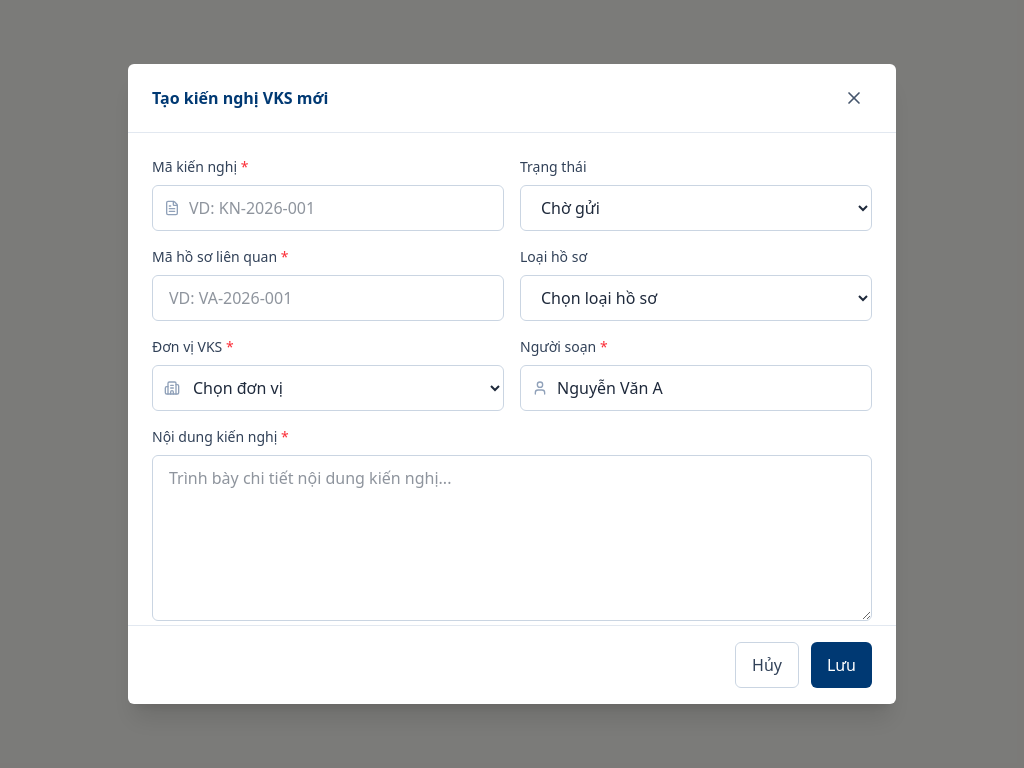
Scenario: Lưu kiến nghị VKS thất bại › hiện đúng lý do máy chủ từ chối
Type "nội dung kiểm thử" into the field with placeholder "VD: KN-2026-001" at (328, 208), box [152,185,504,231]
Type "nội dung kiểm thử" into the field with placeholder "VD: VA-2026-001" at (328, 298), box [152,275,504,321]
Replace the text in the field below "Người soạn" with "nội dung kiểm thử" at (696, 388), box [520,365,872,411]
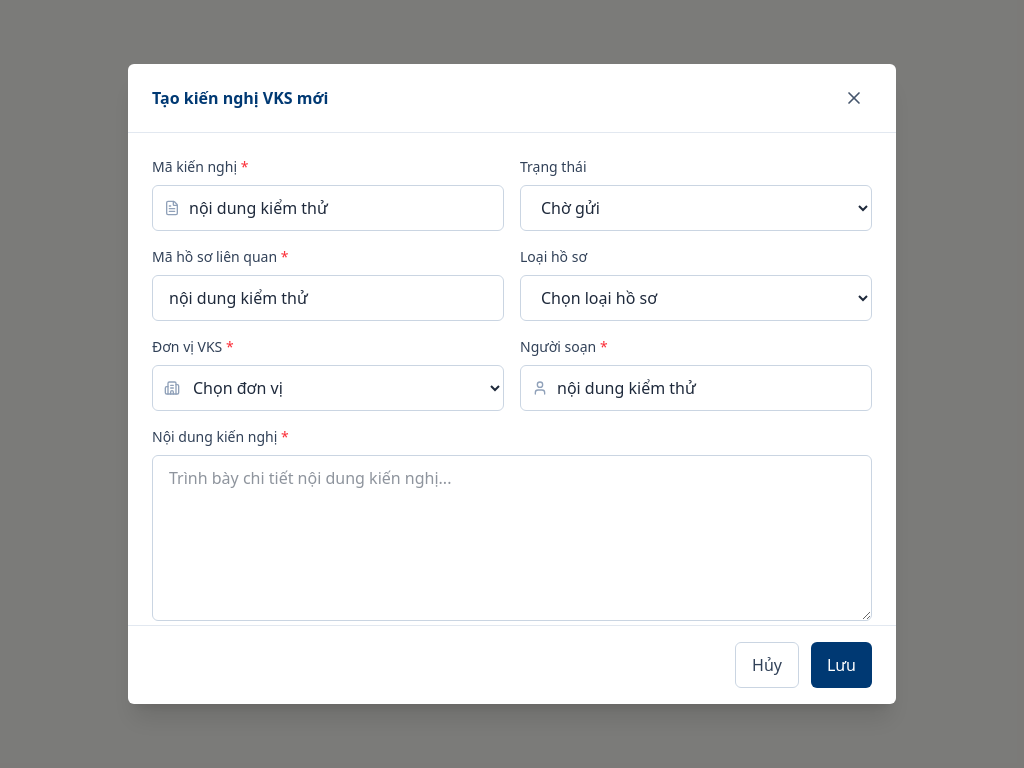
Type "nội dung kiểm thử" into the text box at (512, 538), box [152,455,872,621]
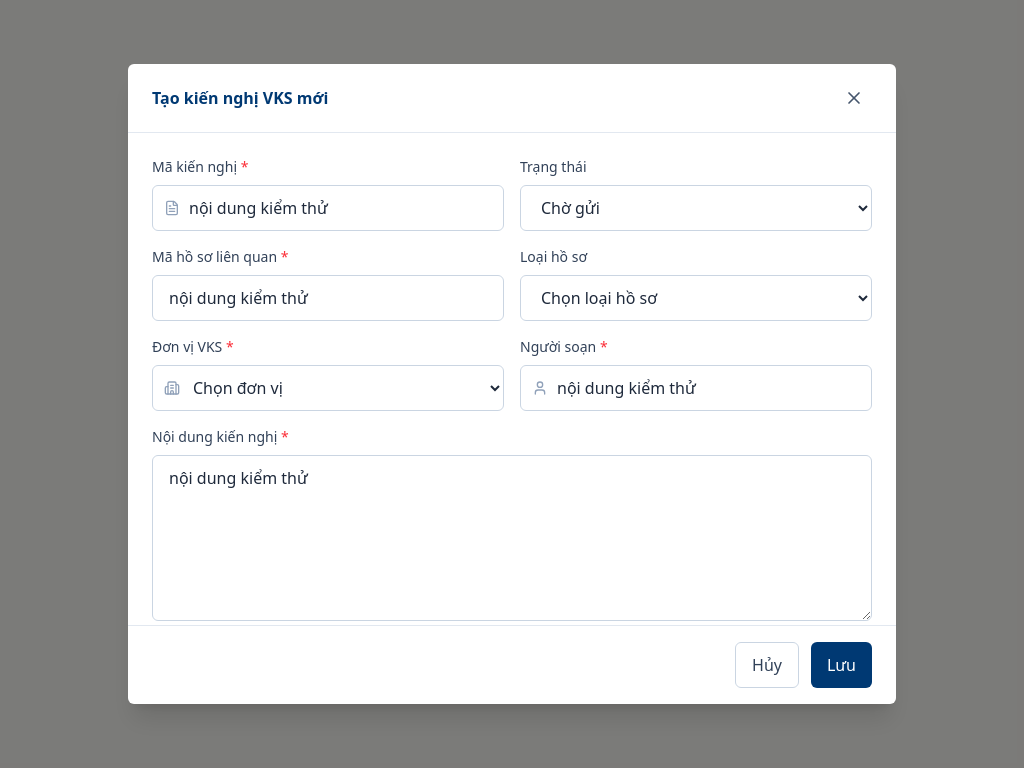
Select "Đã gửi" in the dropdown below "Trạng thái" at (696, 208), box [520,185,872,231]
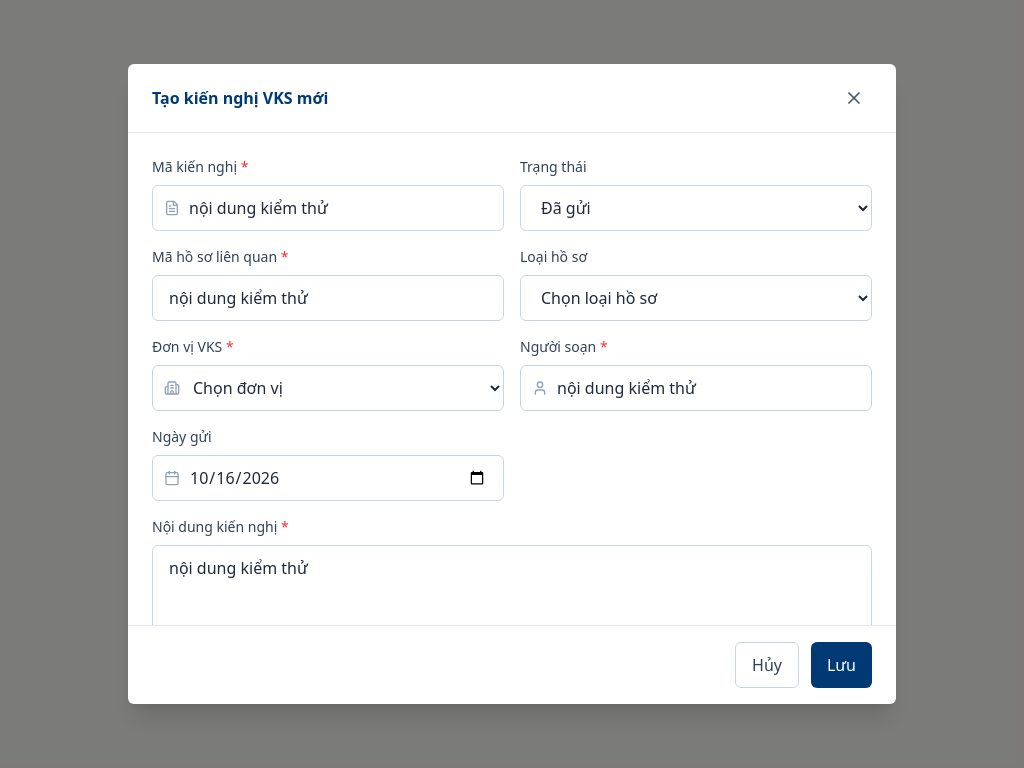
Select "Vụ án" in the dropdown below "Loại hồ sơ" at (696, 298), box [520,275,872,321]
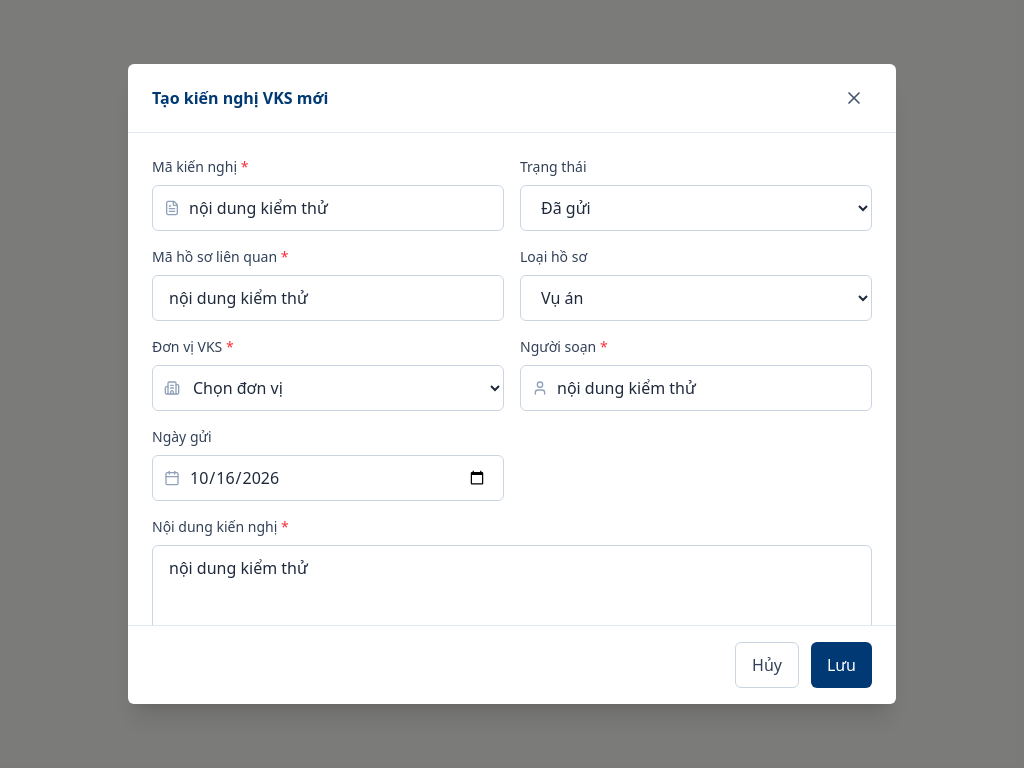
Select "Viện Kiểm sát Quận 1" in the dropdown below "Đơn vị VKS" at (328, 388), box [152,365,504,411]
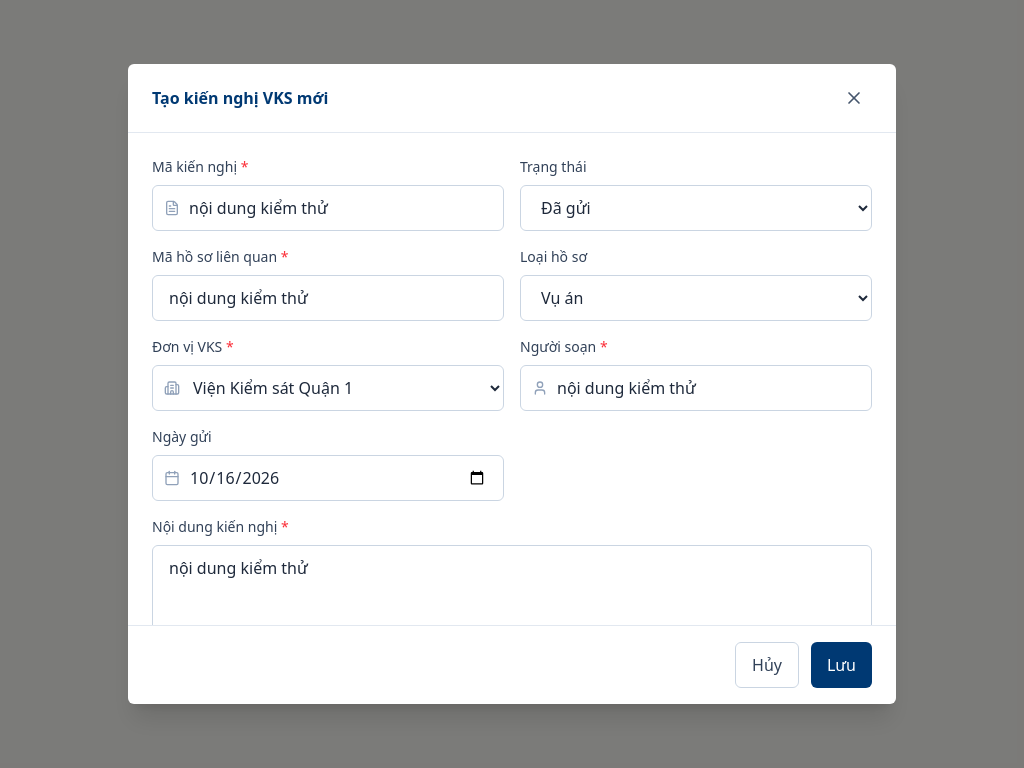
Click the button "Lưu" at (841, 665), box [811,642,872,688]
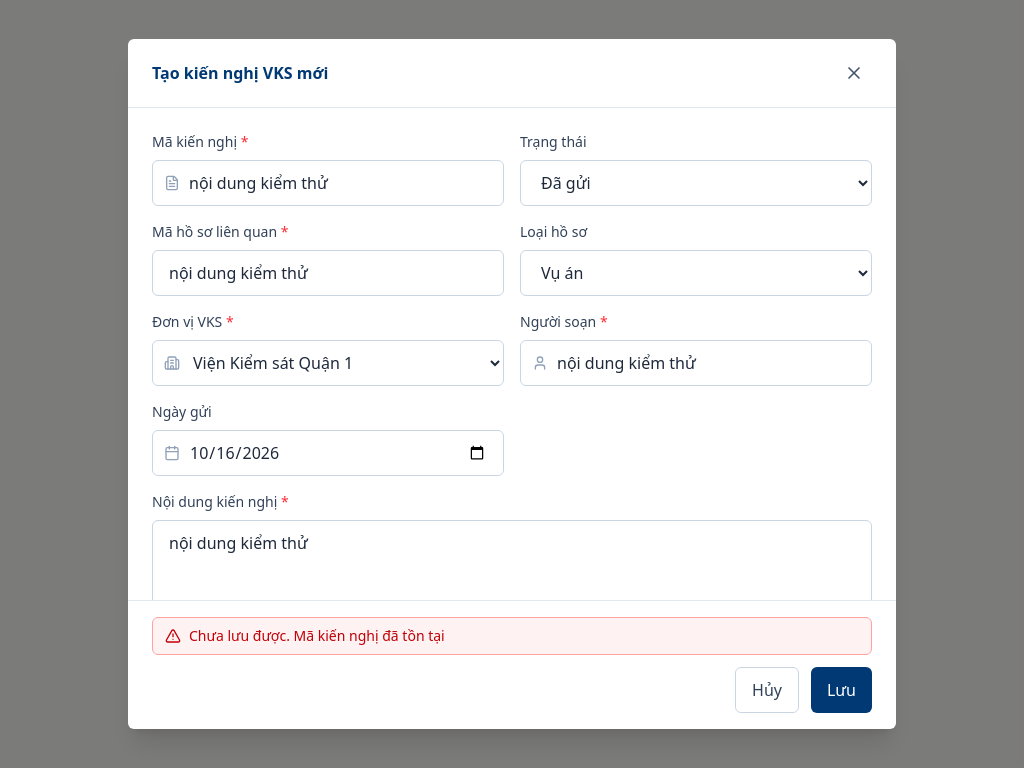
Expected: the text "Chưa lưu được. Mã kiến nghị đã tồn tại" is shown, [189,626,445,646]
